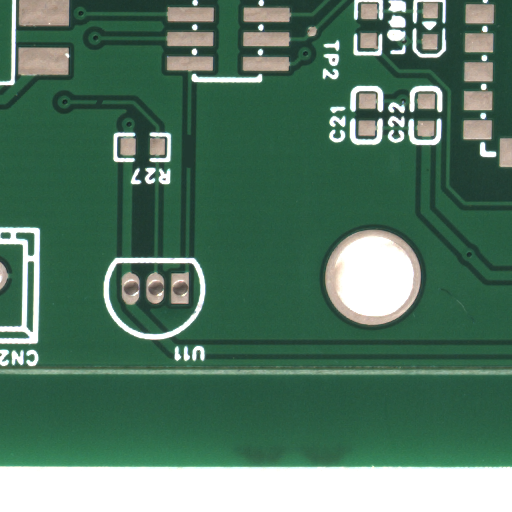Open_circuit: (187, 151, 194, 184), (100, 99, 107, 108)
